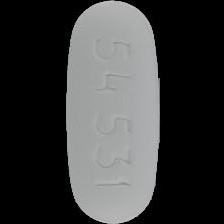43353-004: (0, 0, 224, 224)
